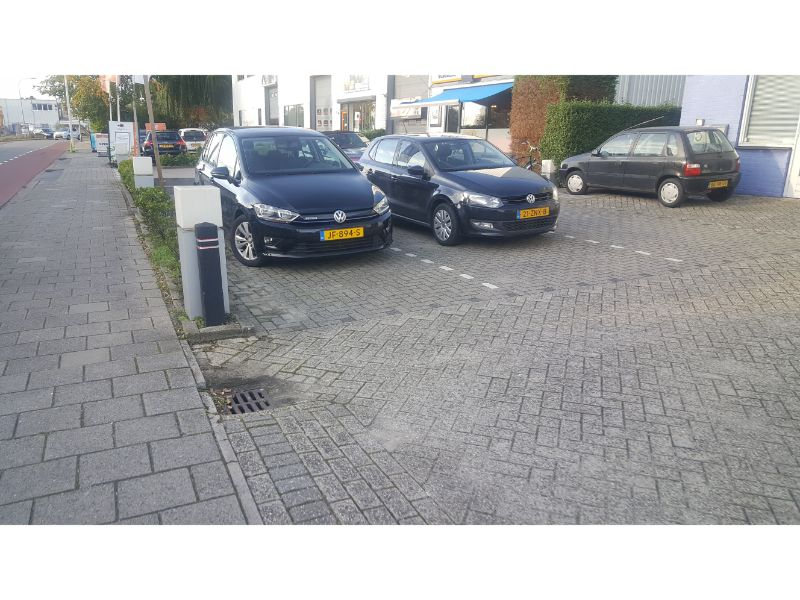kenteken: (320, 224, 366, 242), (517, 205, 554, 219)
